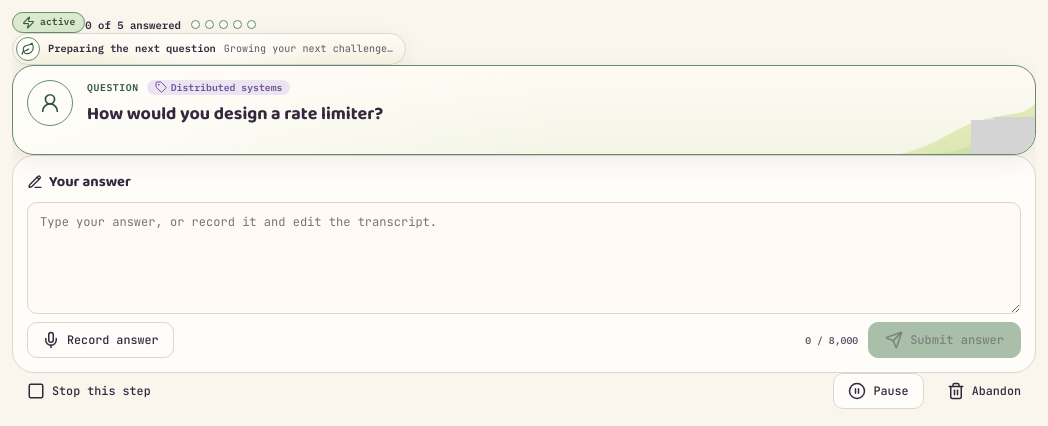
Scenario: session controller › pauses durably and abandons only after an inline confirmation
This screenshot has width=1048, height=426.
Later steps or results of the test are not shown.
Step 1. Click the button "Pause" → (879, 391), box [833,373,924,409]
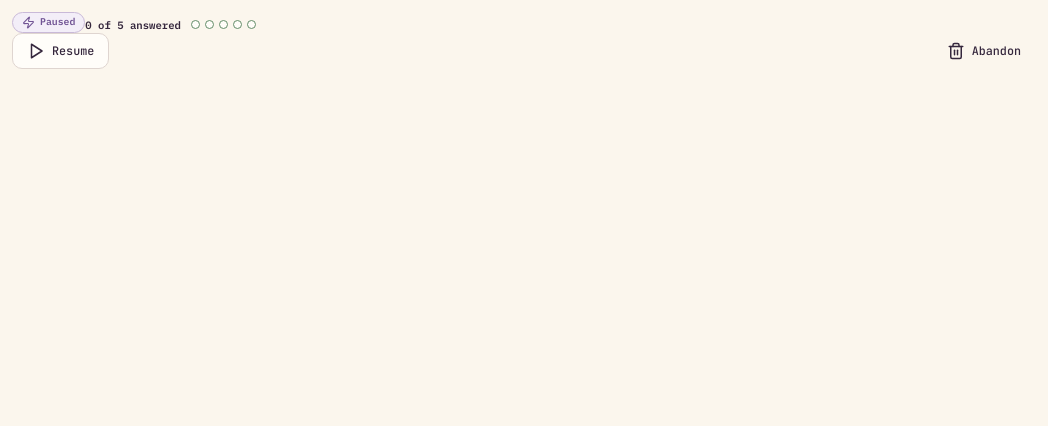
Check: the element showing "Paused" is shown, box [12,12,85,33]
Check: the button "Resume" is shown, box [12,33,109,69]
